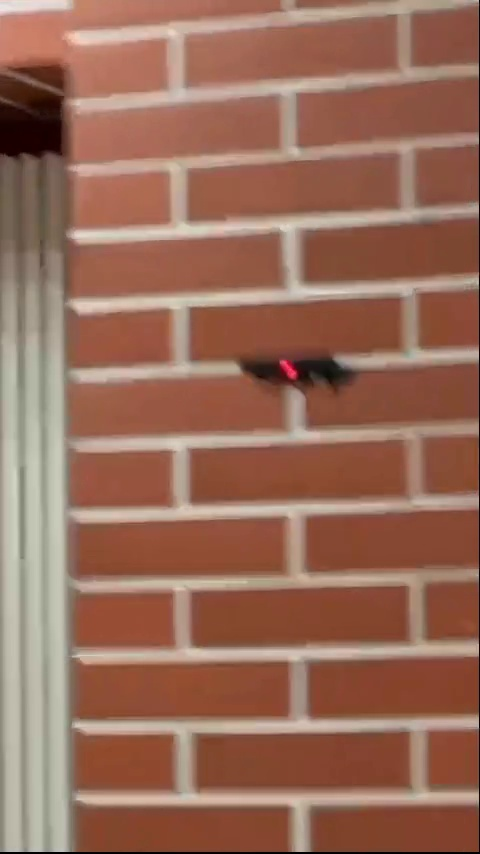drone: (238, 354, 353, 395)
